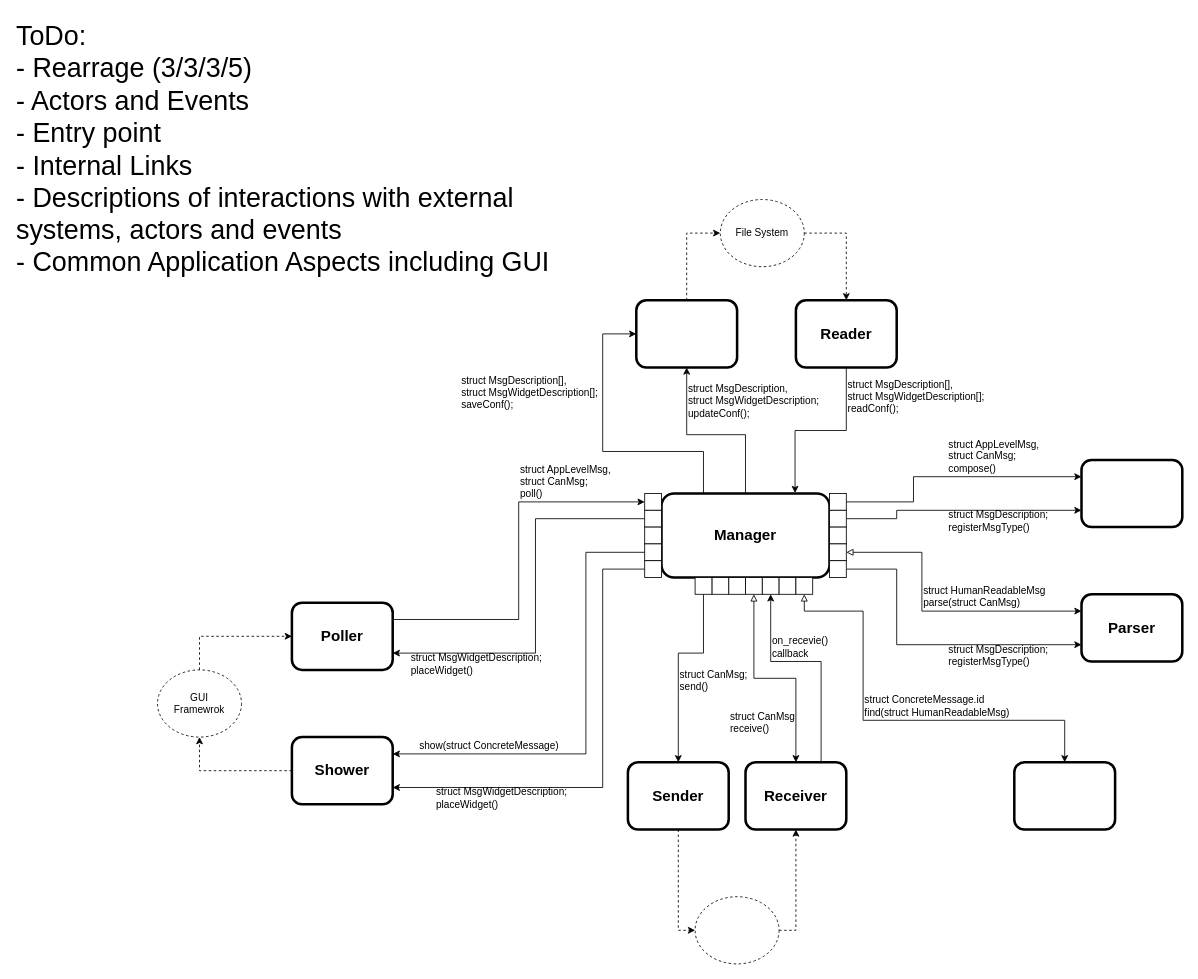
Image size: 1198x979. Some labels were removed from this diagram. The shapes that lost their labels are listed below. From the top down, each one's centre as x and y in pixels, then its label:
[686,333]: Writer
[1131,493]: Composer
[1064,795]: Registry
[736,930]: Network Client
